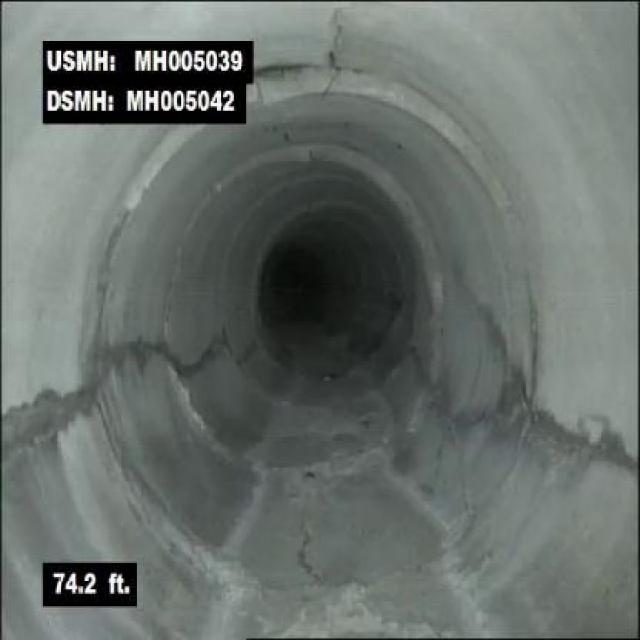Buckling: (257, 5, 357, 109)
Crack: (6, 383, 92, 463), (537, 417, 635, 474), (434, 389, 528, 437), (292, 488, 330, 588), (103, 337, 162, 385)
Joint offset: (358, 68, 480, 160), (111, 125, 191, 220)
